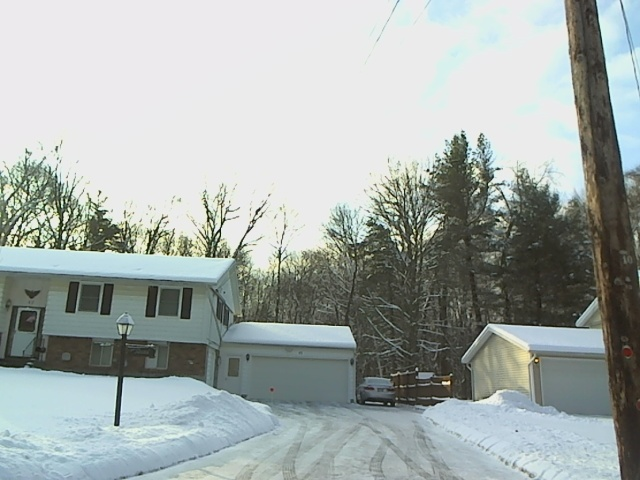Ploughed: (272, 401, 470, 480)
